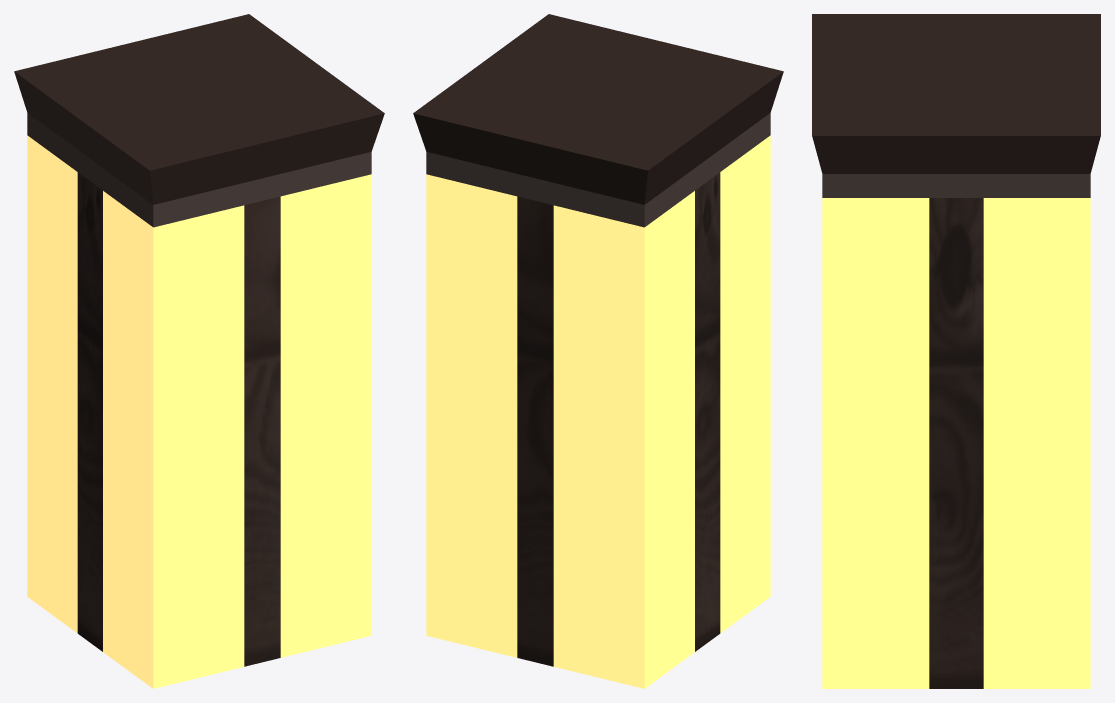
Rendered from japan_light.glb.
3 views of the same model, side by side, from view 1: azimuth 30°, elevation 25°; view 2: azimuth 150°, elevation 25°; view 3: azimuth 270°, elevation 25° (orthographic). The views are drawn at different scales.
Visible parts, largest first — view 1: LIGHT.003; view 2: LIGHT.003; view 3: LIGHT.003.
Boxes of the visible parts, <box> form: LIGHT.003: <box>14,14,384,688</box>; LIGHT.003: <box>413,14,783,688</box>; LIGHT.003: <box>812,14,1100,688</box>.
Bounding box in the file's own units: 0.1784 × 0.3799 × 0.1784.
2 materials, 1 textured.
